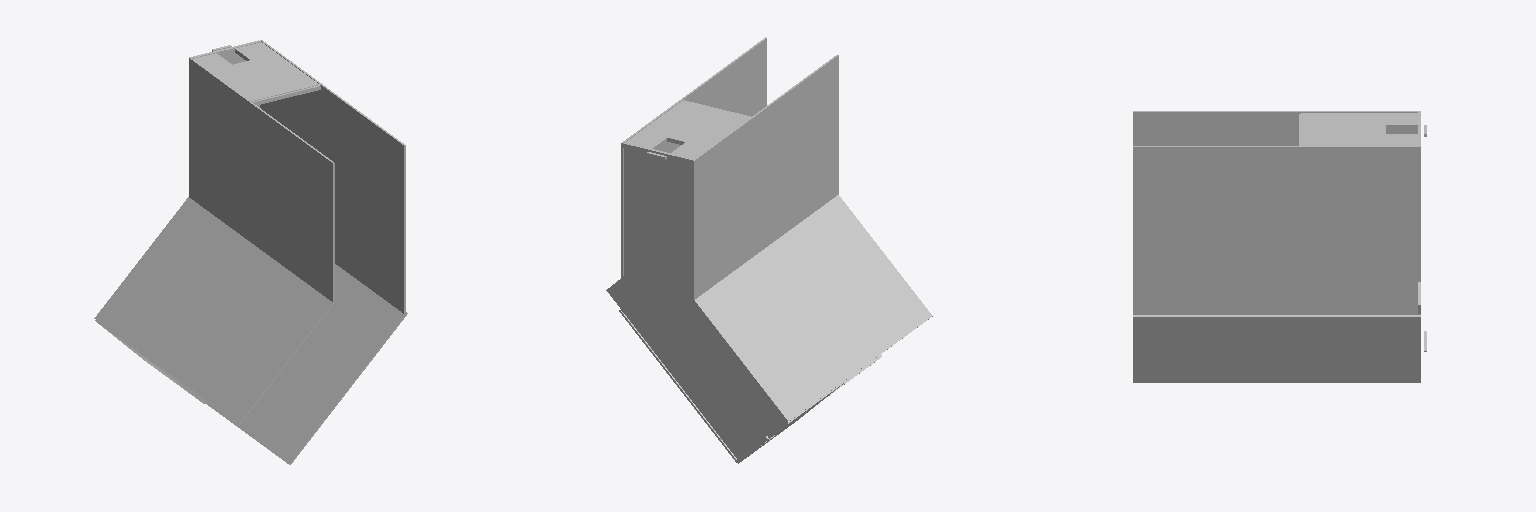
File: room.obj
The picture shows the model from 3 angles: view 1: azimuth 30°, elevation 25°; view 2: azimuth 150°, elevation 25°; view 3: azimuth 270°, elevation 25°; orthographic projection.
Parts seen in each view (by area): view 1: obj_2; view 2: obj_2, obj_4; view 3: obj_2.
Part boxes in pixels (x1,y1,x2,y2): obj_2: (94,40,407,464); obj_2: (619,37,932,463); obj_4: (606,143,786,459); obj_2: (1133,111,1420,382).
Bounding box in the file's own units: 299 × 458 × 419.